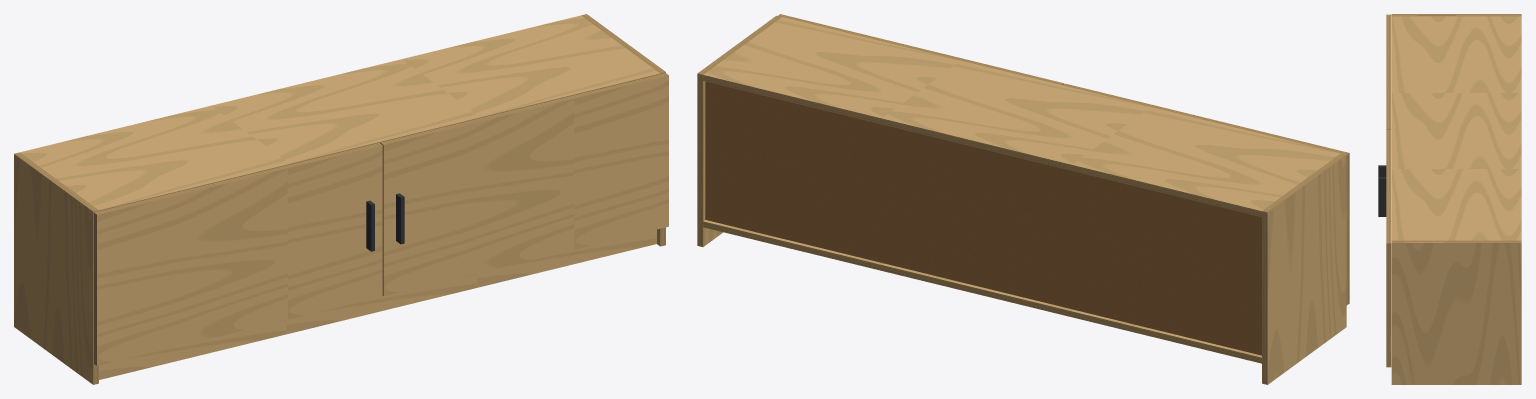
Rendered from HIN-MED-std.glb.
The picture shows the model from 3 angles, left to right: view 1: azimuth 30°, elevation 25°; view 2: azimuth 150°, elevation 25°; view 3: azimuth 270°, elevation 25°; orthographic projection. The views are drawn at different scales.
Visible parts, largest first — view 1: top:sheet:eyJtIjoicGx5Iiwic2lkZSI6ImZhY2UiLCJzZWVkIjo2LCJ2ZW, door-l:sheet:eyJtIjoicGx5Iiwic2lkZSI6ImZhY2UiLCJzZWVkIjoyLCJ, door-r:sheet:eyJtIjoicGx5Iiwic2lkZSI6ImZhY2UiLCJzZWVkIjoyLCJ, side-l:sheet:eyJtIjoicGx5Iiwic2lkZSI6ImZhY2UiLCJzZWVkIjoxLCJ, plinth:sheet:eyJtIjoicGx5Iiwic2lkZSI6ImZhY2UiLCJzZWVkIjozLCJ, door-l:sheet:eyJtIjoicGx5Iiwic2lkZSI6ImVkZ2UtbG9uZyIsInNlZWQ, door-r:sheet:eyJtIjoicGx5Iiwic2lkZSI6ImVkZ2UtbG9uZyIsInNlZWQ, pull, top:sheet:eyJtIjoicGx5Iiwic2lkZSI6ImVkZ2UtbG9uZyIsInNlZWQiOj; view 2: back:sheet:eyJtIjoibWRmIiwic2lkZSI6ImZhY2UiLCJzZWVkIjoxLCJ0a, top:sheet:eyJtIjoicGx5Iiwic2lkZSI6ImZhY2UiLCJzZWVkIjo2LCJ2ZW, side-l:sheet:eyJtIjoicGx5Iiwic2lkZSI6ImZhY2UiLCJzZWVkIjoxLCJ, bottom:sheet:eyJtIjoicGx5Iiwic2lkZSI6ImVkZ2UtbG9uZyIsInNlZWQ, top:sheet:eyJtIjoicGx5Iiwic2lkZSI6ImVkZ2UtbG9uZyIsInNlZWQiOj, bottom:sheet:eyJtIjoicGx5Iiwic2lkZSI6ImZhY2UiLCJzZWVkIjowLCJ, side-r:sheet:eyJtIjoicGx5Iiwic2lkZSI6ImVkZ2UtbG9uZyIsInNlZWQ, side-l:sheet:eyJtIjoicGx5Iiwic2lkZSI6ImVkZ2UtbG9uZyIsInNlZWQ, door-l:sheet:eyJtIjoicGx5Iiwic2lkZSI6ImVkZ2UtbG9uZyIsInNlZWQ, door-r:sheet:eyJtIjoicGx5Iiwic2lkZSI6ImVkZ2UtbG9uZyIsInNlZWQ, side-r:sheet:eyJtIjoicGx5Iiwic2lkZSI6ImZhY2UiLCJzZWVkIjozLCJ, door-l:sheet:eyJtIjoicGx5Iiwic2lkZSI6ImVkZ2UtZW5kIiwic2VlZCI; view 3: top:sheet:eyJtIjoicGx5Iiwic2lkZSI6ImZhY2UiLCJzZWVkIjo2LCJ2ZW, side-r:sheet:eyJtIjoicGx5Iiwic2lkZSI6ImZhY2UiLCJzZWVkIjozLCJ, door-r:sheet:eyJtIjoicGx5Iiwic2lkZSI6ImVkZ2UtZW5kIiwic2VlZCI, door-l:sheet:eyJtIjoicGx5Iiwic2lkZSI6ImVkZ2UtbG9uZyIsInNlZWQ, door-r:sheet:eyJtIjoicGx5Iiwic2lkZSI6ImVkZ2UtbG9uZyIsInNlZWQ, pull, side-l:sheet:eyJtIjoicGx5Iiwic2lkZSI6ImVkZ2UtZW5kIiwic2VlZCI, side-r:sheet:eyJtIjoicGx5Iiwic2lkZSI6ImVkZ2UtZW5kIiwic2VlZCI.
Part boxes in pixels (<box>): top:sheet:eyJtIjoicGx5Iiwic2lkZSI6ImZhY2UiLCJzZWVkIjo2LCJ2ZW: <box>20,15,659,210</box>; door-l:sheet:eyJtIjoicGx5Iiwic2lkZSI6ImZhY2UiLCJzZWVkIjoyLCJ: <box>97,145,382,365</box>; door-r:sheet:eyJtIjoicGx5Iiwic2lkZSI6ImZhY2UiLCJzZWVkIjoyLCJ: <box>383,75,668,295</box>; side-l:sheet:eyJtIjoicGx5Iiwic2lkZSI6ImZhY2UiLCJzZWVkIjoxLCJ: <box>14,154,93,384</box>; plinth:sheet:eyJtIjoicGx5Iiwic2lkZSI6ImZhY2UiLCJzZWVkIjozLCJ: <box>99,229,656,379</box>; door-l:sheet:eyJtIjoicGx5Iiwic2lkZSI6ImVkZ2UtbG9uZyIsInNlZWQ: <box>94,143,382,214</box>; door-r:sheet:eyJtIjoicGx5Iiwic2lkZSI6ImVkZ2UtbG9uZyIsInNlZWQ: <box>381,73,668,144</box>; pull: <box>366,193,404,251</box>; top:sheet:eyJtIjoicGx5Iiwic2lkZSI6ImVkZ2UtbG9uZyIsInNlZWQiOj: <box>99,73,659,210</box>; back:sheet:eyJtIjoibWRmIiwic2lkZSI6ImZhY2UiLCJzZWVkIjoxLCJ0a: <box>705,81,1261,355</box>; top:sheet:eyJtIjoicGx5Iiwic2lkZSI6ImZhY2UiLCJzZWVkIjo2LCJ2ZW: <box>703,17,1340,210</box>; side-l:sheet:eyJtIjoicGx5Iiwic2lkZSI6ImZhY2UiLCJzZWVkIjoxLCJ: <box>1267,155,1346,384</box>; bottom:sheet:eyJtIjoicGx5Iiwic2lkZSI6ImVkZ2UtbG9uZyIsInNlZWQ: <box>703,221,1261,363</box>; top:sheet:eyJtIjoicGx5Iiwic2lkZSI6ImVkZ2UtbG9uZyIsInNlZWQiOj: <box>703,75,1261,216</box>; bottom:sheet:eyJtIjoicGx5Iiwic2lkZSI6ImZhY2UiLCJzZWVkIjowLCJ: <box>703,220,1261,357</box>; side-r:sheet:eyJtIjoicGx5Iiwic2lkZSI6ImVkZ2UtbG9uZyIsInNlZWQ: <box>697,73,703,246</box>; side-l:sheet:eyJtIjoicGx5Iiwic2lkZSI6ImVkZ2UtbG9uZyIsInNlZWQ: <box>1262,211,1267,384</box>; door-l:sheet:eyJtIjoicGx5Iiwic2lkZSI6ImVkZ2UtbG9uZyIsInNlZWQ: <box>1063,83,1348,154</box>; door-r:sheet:eyJtIjoicGx5Iiwic2lkZSI6ImVkZ2UtbG9uZyIsInNlZWQ: <box>778,14,1063,85</box>; side-r:sheet:eyJtIjoicGx5Iiwic2lkZSI6ImZhY2UiLCJzZWVkIjozLCJ: <box>703,81,722,246</box>; door-l:sheet:eyJtIjoicGx5Iiwic2lkZSI6ImVkZ2UtZW5kIiwic2VlZCI: <box>1346,153,1349,305</box>; top:sheet:eyJtIjoicGx5Iiwic2lkZSI6ImZhY2UiLCJzZWVkIjo2LCJ2ZW: <box>1391,16,1521,240</box>; side-r:sheet:eyJtIjoicGx5Iiwic2lkZSI6ImZhY2UiLCJzZWVkIjozLCJ: <box>1391,243,1521,384</box>; door-r:sheet:eyJtIjoicGx5Iiwic2lkZSI6ImVkZ2UtZW5kIiwic2VlZCI: <box>1386,243,1391,367</box>; door-l:sheet:eyJtIjoicGx5Iiwic2lkZSI6ImVkZ2UtbG9uZyIsInNlZWQ: <box>1386,14,1391,128</box>; door-r:sheet:eyJtIjoicGx5Iiwic2lkZSI6ImVkZ2UtbG9uZyIsInNlZWQ: <box>1386,129,1391,243</box>; pull: <box>1378,165,1386,216</box>; side-l:sheet:eyJtIjoicGx5Iiwic2lkZSI6ImVkZ2UtZW5kIiwic2VlZCI: <box>1391,14,1521,16</box>; side-r:sheet:eyJtIjoicGx5Iiwic2lkZSI6ImVkZ2UtZW5kIiwic2VlZCI: <box>1391,240,1521,242</box>.
Bounding box in the file's own units: 1.8 × 0.52 × 0.4769.
34 materials, 33 textured.
